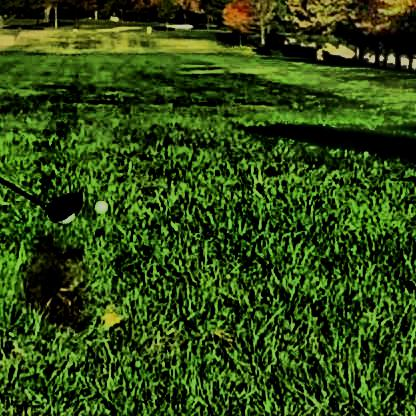golfball: (91, 196, 106, 211)
